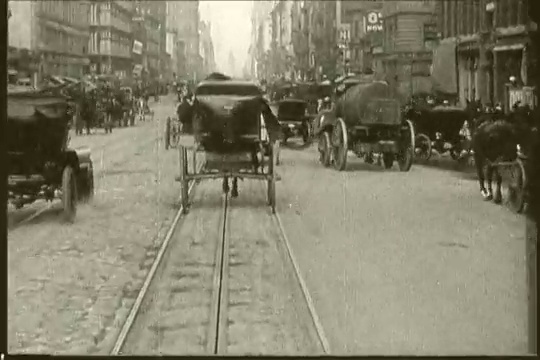car: (2, 86, 107, 224), (406, 99, 468, 165)
carriage: (168, 69, 292, 219), (310, 72, 420, 177), (458, 84, 540, 218), (270, 98, 313, 152)
